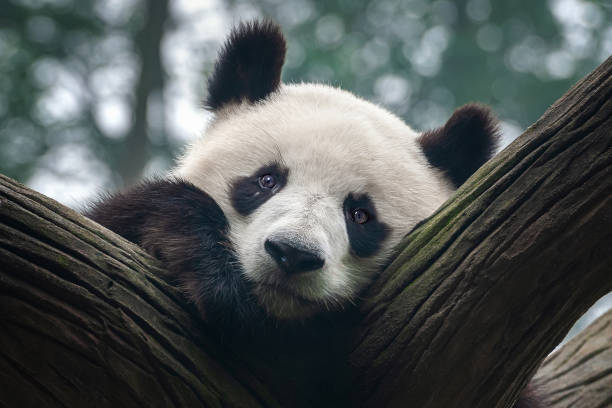panda: (90, 15, 526, 328)
